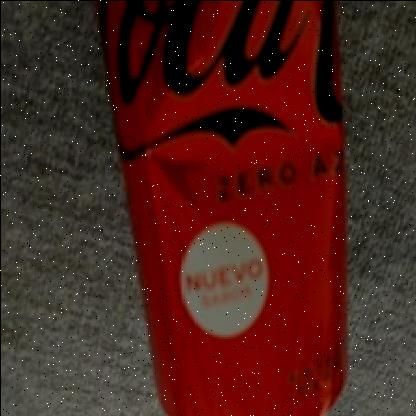Can: (95, 0, 353, 416)
